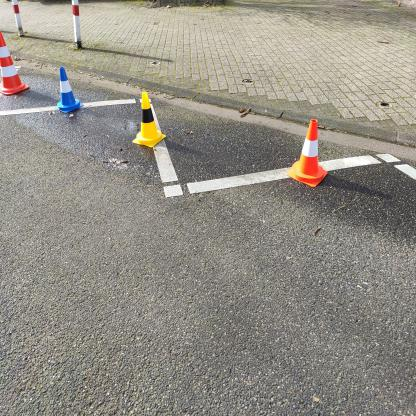Cones_big: (0, 27, 37, 102)
Cones_small_blue: (48, 64, 89, 120)
Cones_small_orange: (282, 110, 335, 220)
Cones_small_yellow: (129, 91, 168, 152)
